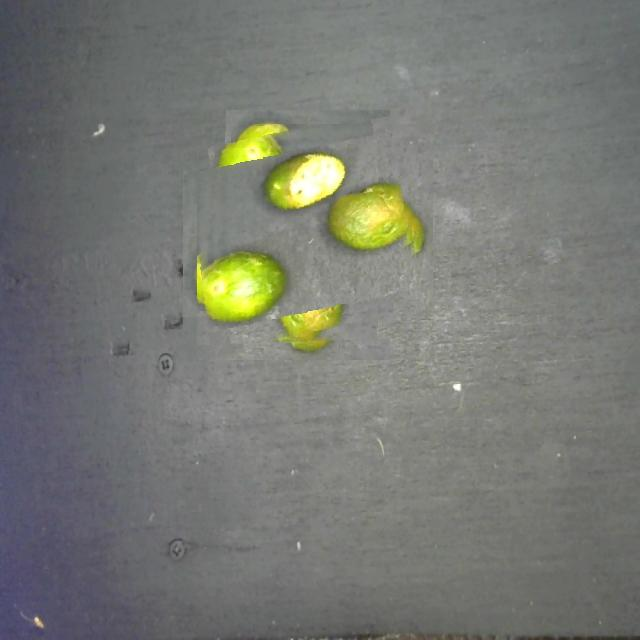biodegradable: (197, 124, 419, 346)
